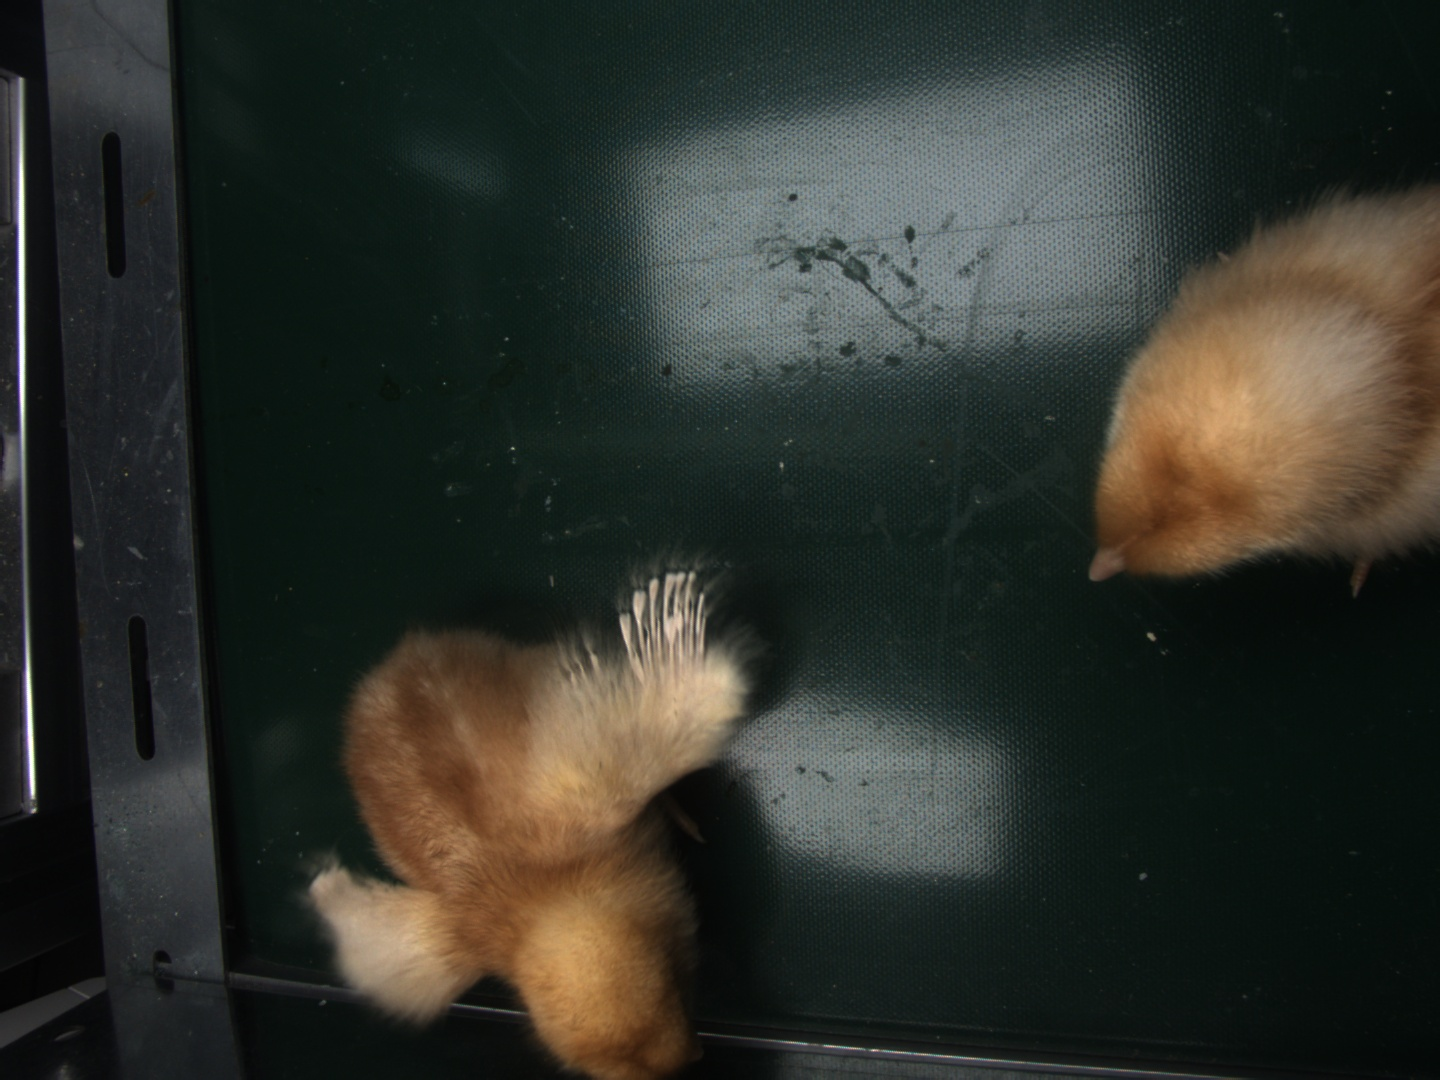female: (617, 569, 710, 668)
